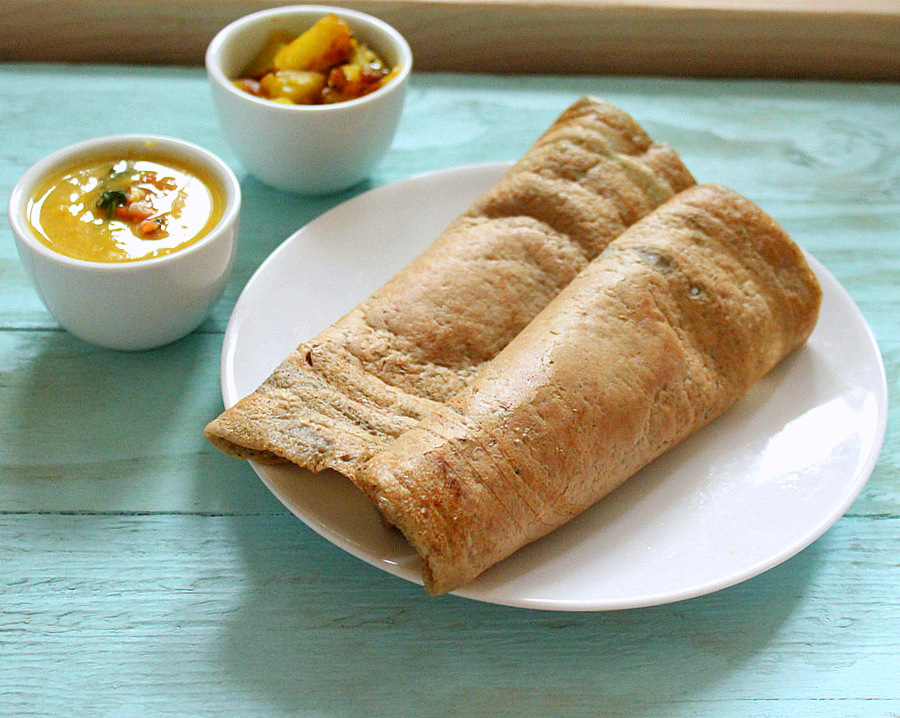dosa: (200, 94, 825, 612)
